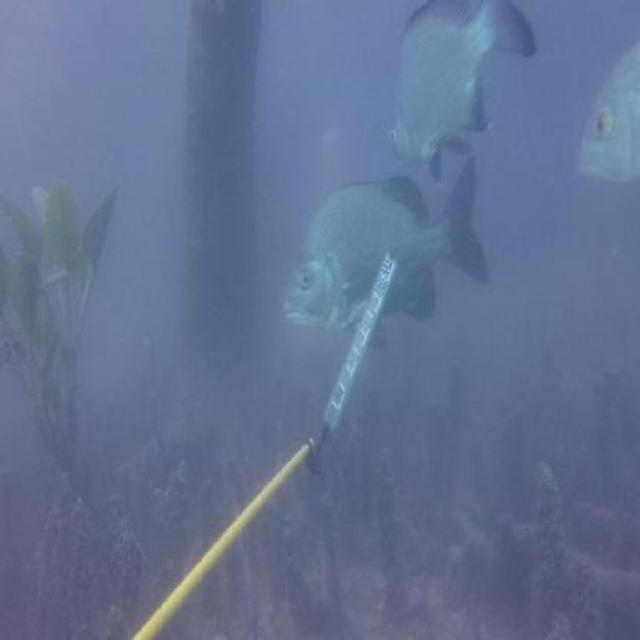Caranx: (571, 34, 640, 201)
acanthopagrus_palmaris: (283, 160, 492, 358), (383, 0, 542, 191)
